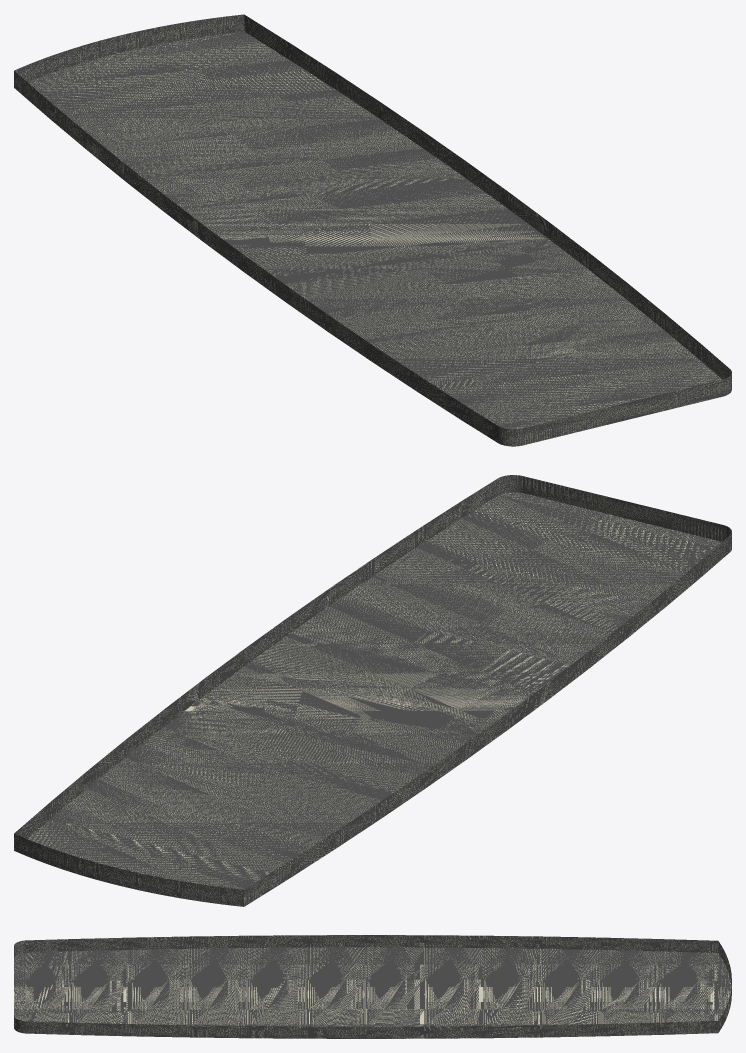
The model's file is original-7.obj.
3 renders of one model, top to bottom at view 1: azimuth 30°, elevation 25°; view 2: azimuth 150°, elevation 25°; view 3: azimuth 270°, elevation 25°, orthographic. The views are drawn at different scales.
Visible parts, largest first — view 1: Group4/mesh7/mesh7-geometry#mesh7-geometry; view 2: Group4/mesh7/mesh7-geometry#mesh7-geometry; view 3: Group4/mesh7/mesh7-geometry#mesh7-geometry.
Part boxes in pixels (bbox=[...]): Group4/mesh7/mesh7-geometry#mesh7-geometry: bbox=[14, 14, 731, 446]; Group4/mesh7/mesh7-geometry#mesh7-geometry: bbox=[14, 475, 731, 906]; Group4/mesh7/mesh7-geometry#mesh7-geometry: bbox=[14, 935, 731, 1038].
Size of the model in its own units: 0.5639 by 0.0352 by 1.87.
